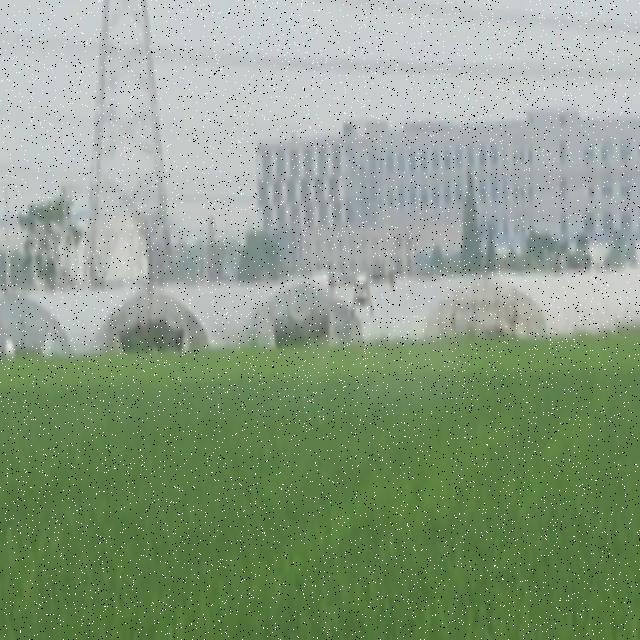UAV: (328, 270, 402, 318)
